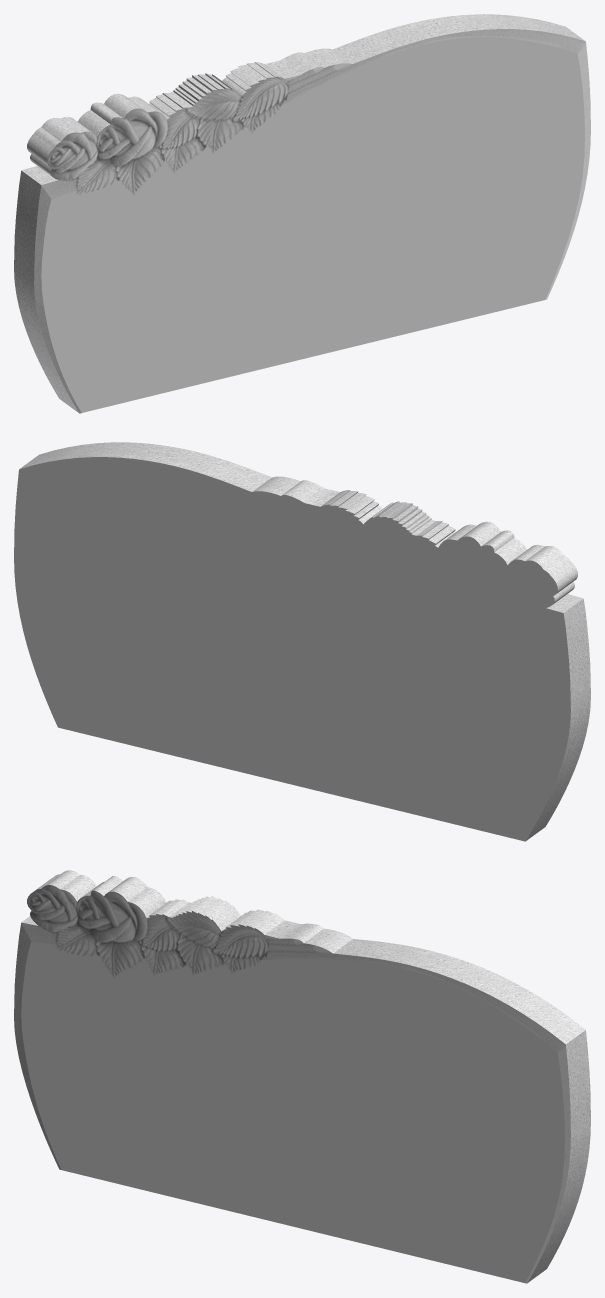
File: cn52fdb4ee4e_tkf.glb
The picture shows the model from 3 angles, top to bottom: view 1: azimuth 30°, elevation 25°; view 2: azimuth 150°, elevation 25°; view 3: azimuth 330°, elevation 25°; orthographic projection.
Parts seen in each view (by area): view 1: Pam-d03-264, Pam-d03-264_2_notexture; view 2: Pam-d03-264, Pam-d03-264_2_notexture; view 3: Pam-d03-264, Pam-d03-264_2_notexture.
Boxes of the visible parts, x1,y1,x2,y2 form: Pam-d03-264: (41,37,584,412); Pam-d03-264_2_notexture: (14,14,590,413); Pam-d03-264: (14,457,570,841); Pam-d03-264_2_notexture: (19,442,590,840); Pam-d03-264: (21,941,564,1282); Pam-d03-264_2_notexture: (14,870,590,1283).
Bounding box in the file's own units: 0.8 × 0.4 × 0.05.
Materials: 1 (1 with a texture image).
